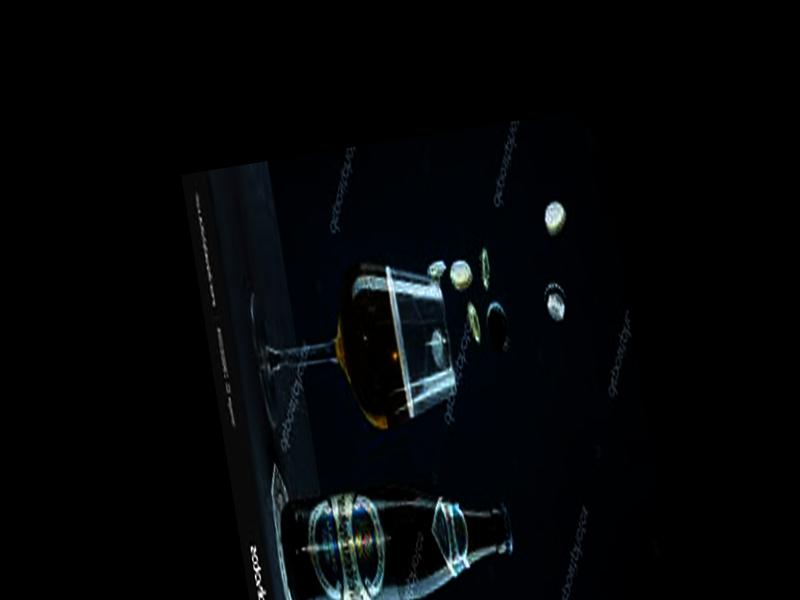Beer: (279, 470, 517, 600)
